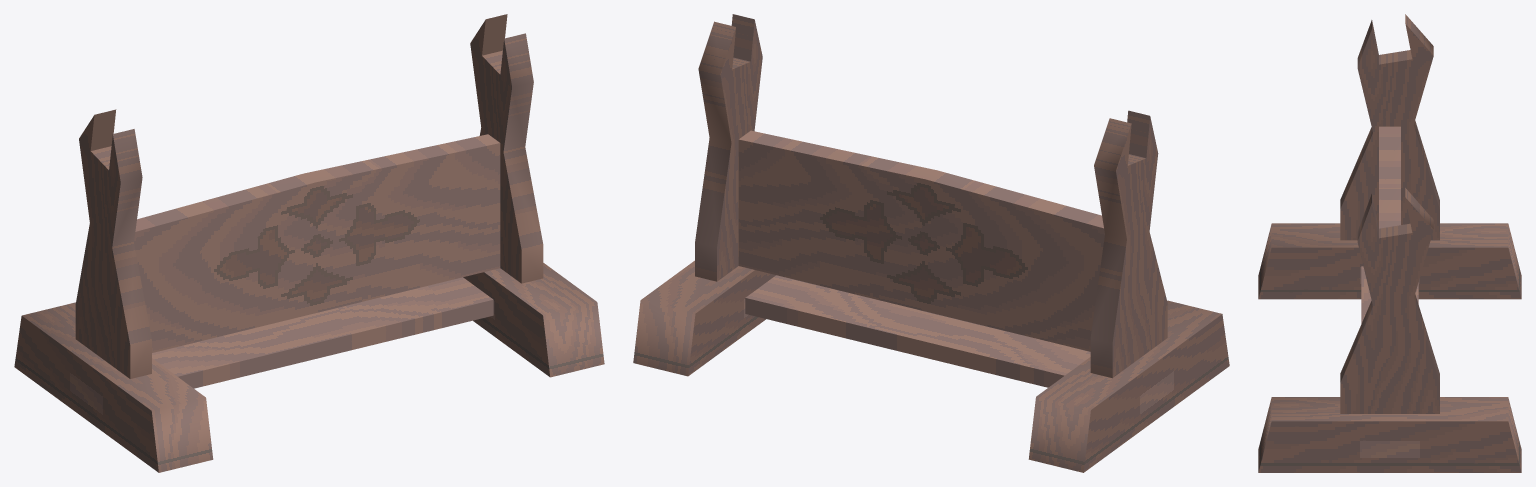
File: 04af_Pedestal.glb
3 views of the same model, side by side, from view 1: azimuth 30°, elevation 25°; view 2: azimuth 150°, elevation 25°; view 3: azimuth 270°, elevation 25° (orthographic). The views are drawn at different scales.
Visible parts, largest first — view 1: part_0; view 2: part_0; view 3: part_0.
Boxes of the visible parts, bbox=[...] form: part_0: bbox=[14, 14, 604, 472]; part_0: bbox=[633, 14, 1229, 472]; part_0: bbox=[1258, 14, 1521, 472].
Size of the model in its own units: 0.41 by 0.2594 by 0.2304.
1 material, 1 textured.
